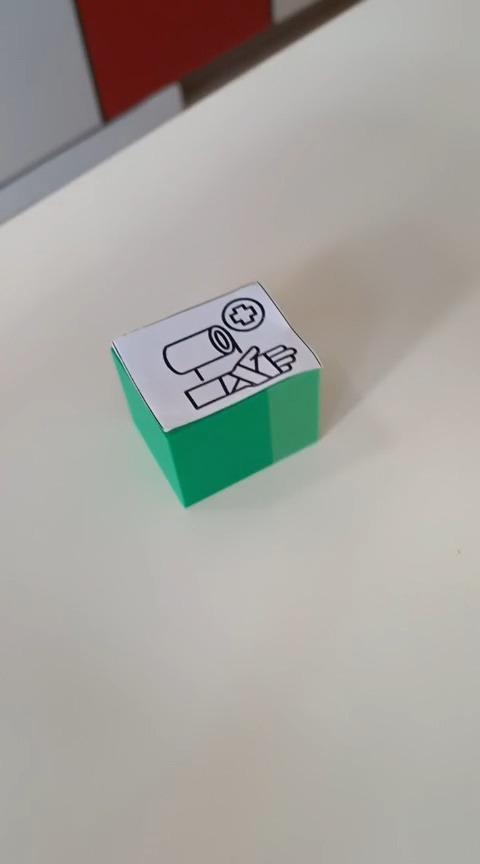Bandages: (109, 279, 322, 508)
